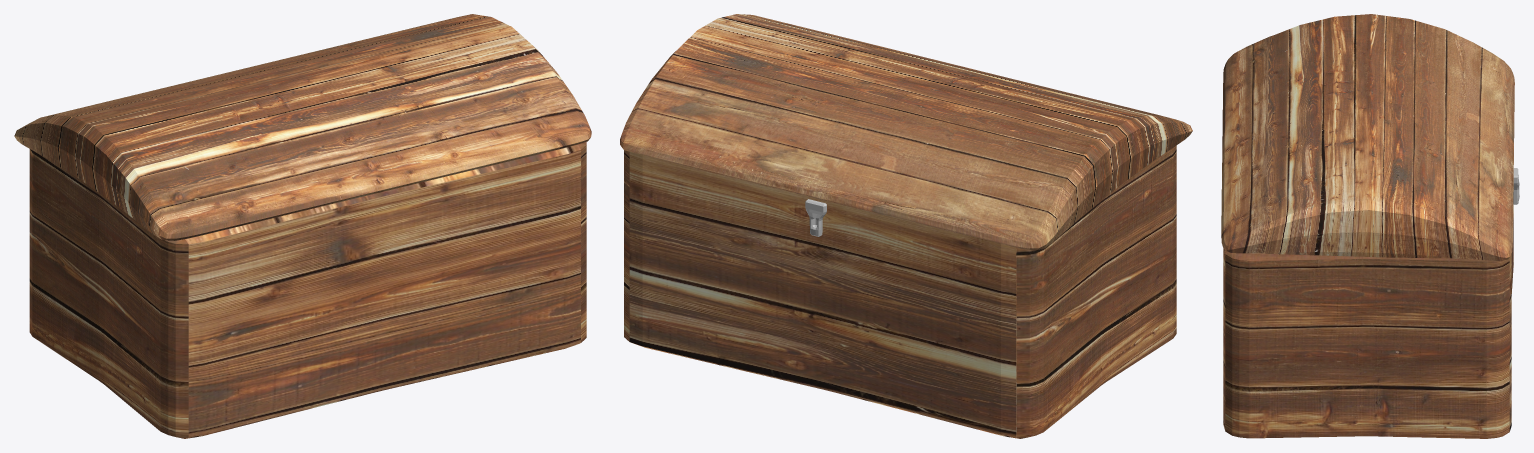
Rendered from chest.obj.
3 views of the same model, side by side, from view 1: azimuth 30°, elevation 25°; view 2: azimuth 150°, elevation 25°; view 3: azimuth 270°, elevation 25° (orthographic). The views are drawn at different scales.
Visible parts, largest first — view 1: chest1_Cube, door_Cube.001; view 2: chest1_Cube, door_Cube.001, lock_Cube.002; view 3: door_Cube.001, chest1_Cube.
Boxes of the visible parts, bbox=[...] form: chest1_Cube: bbox=[29, 142, 586, 438]; door_Cube.001: bbox=[14, 14, 591, 240]; chest1_Cube: bbox=[624, 145, 1176, 438]; door_Cube.001: bbox=[620, 14, 1192, 250]; lock_Cube.002: bbox=[805, 199, 826, 236]; door_Cube.001: bbox=[1221, 14, 1514, 260]; chest1_Cube: bbox=[1223, 204, 1513, 438].
Bounding box in the file's own units: 3.36 × 1.91 × 2.17.
Materials: 3 (2 with a texture image).
